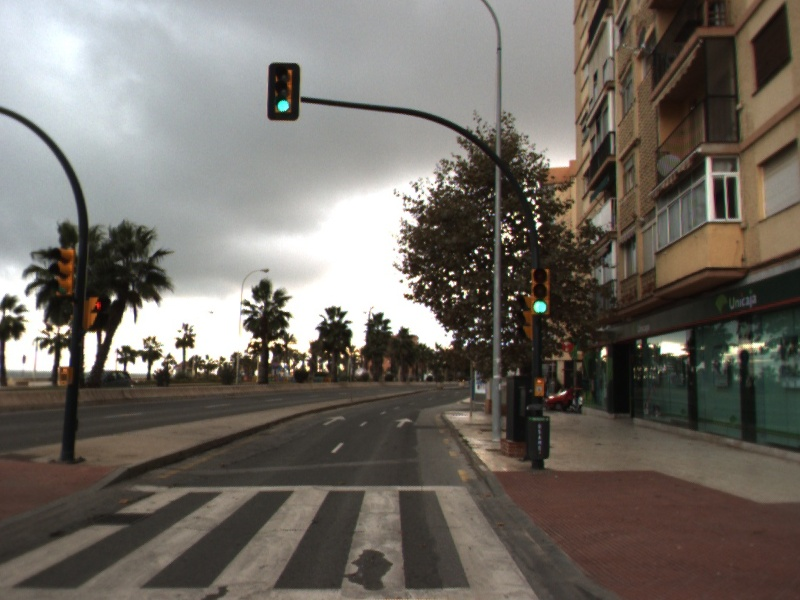STRAIGHT: (322, 414, 347, 427), (394, 417, 414, 429)
